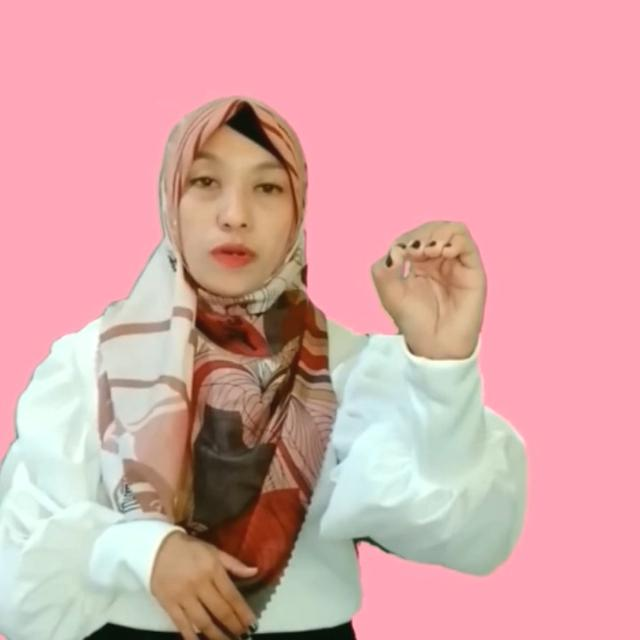O: (368, 210, 489, 350)
